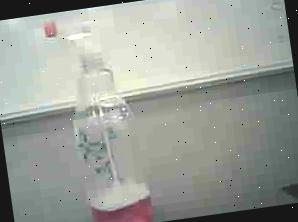hazard: (31, 2, 171, 222)
